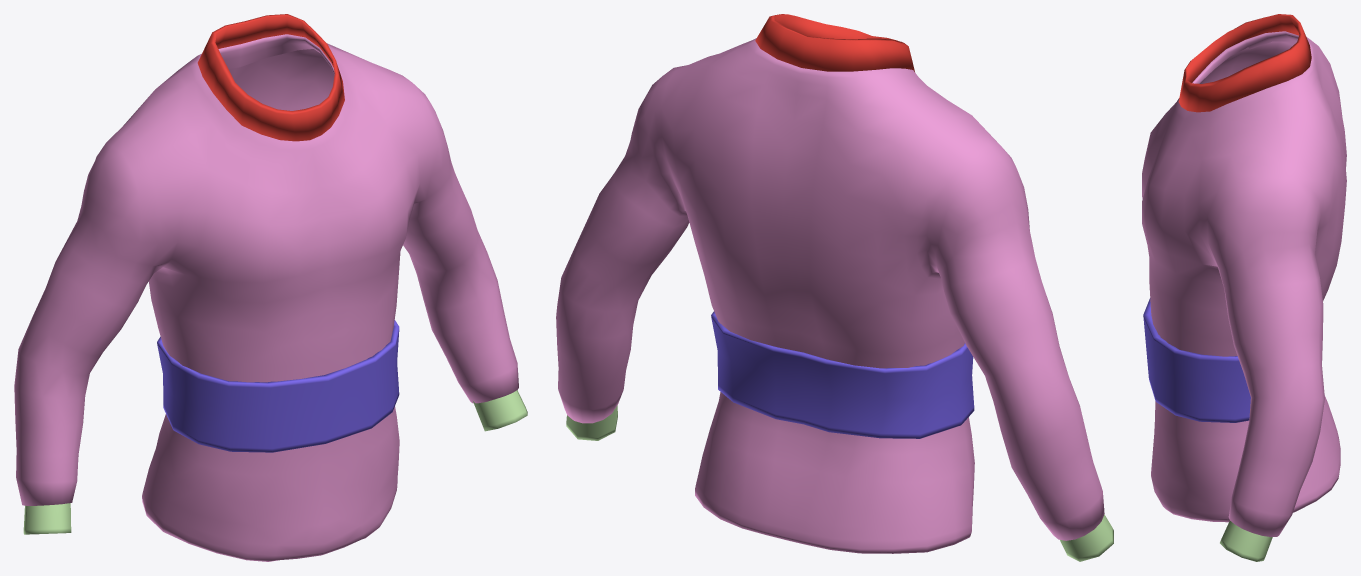
Rendered from Male_Jersey.glb.
3 views of the same model, side by side, from view 1: azimuth 30°, elevation 25°; view 2: azimuth 150°, elevation 25°; view 3: azimuth 270°, elevation 25° (orthographic). The views are drawn at different scales.
Visible parts, largest first — view 1: Male_Jersey; view 2: Male_Jersey; view 3: Male_Jersey.
Part boxes in pixels (box(x1,y1,x2,y2)): Male_Jersey: box(14, 14, 527, 561); Male_Jersey: box(556, 14, 1113, 561); Male_Jersey: box(1142, 14, 1346, 561).
Size of the model in its own units: 7.83 by 7.17 by 2.92.
